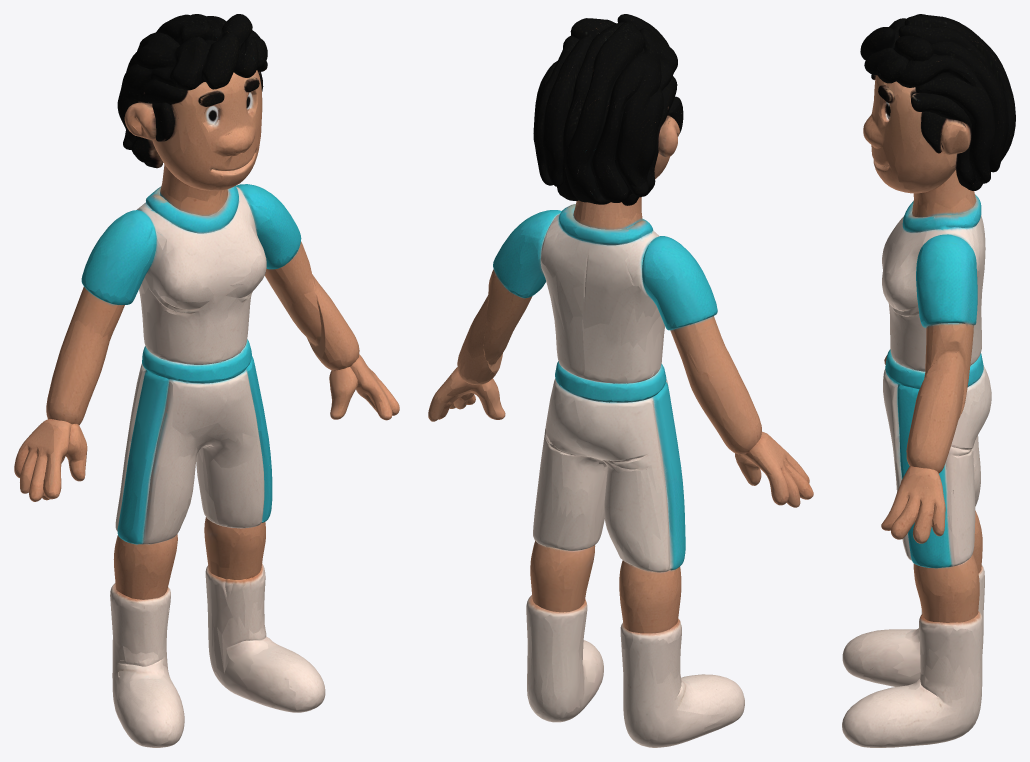
Rendered from A4-clay-tee.glb.
3 renders of one model, left to right at view 1: azimuth 30°, elevation 25°; view 2: azimuth 150°, elevation 25°; view 3: azimuth 270°, elevation 25°, orthographic.
Visible parts, largest first — view 1: Mesh_0; view 2: Mesh_0; view 3: Mesh_0.
Part boxes in pixels (left/top/right/bottom): Mesh_0: left=14, top=14, right=399, bottom=747; Mesh_0: left=428, top=14, right=813, bottom=747; Mesh_0: left=842, top=14, right=1015, bottom=747.
Bounding box in the file's own units: 1.06 × 1.9 × 0.4313.
1 material, 1 textured.
